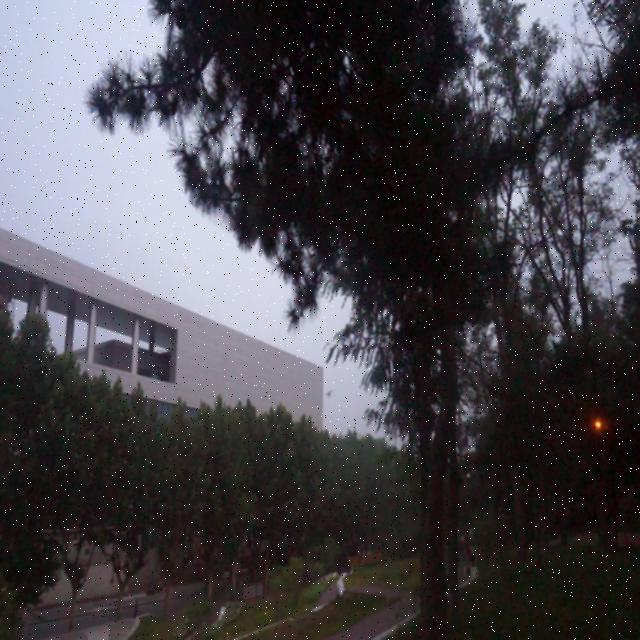UAV: (324, 389, 333, 398)
